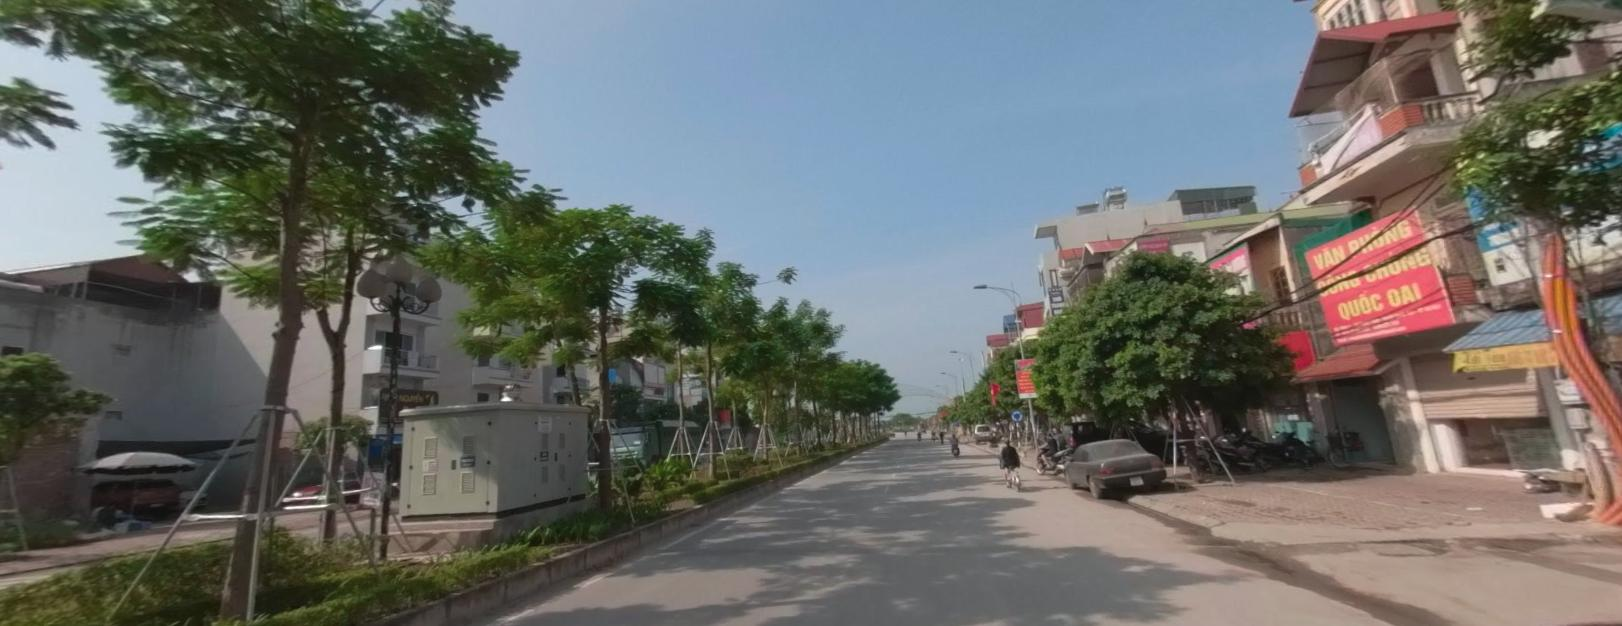Hieu lenh: (1010, 408, 1022, 419), (1011, 409, 1022, 420), (1011, 409, 1022, 419)
